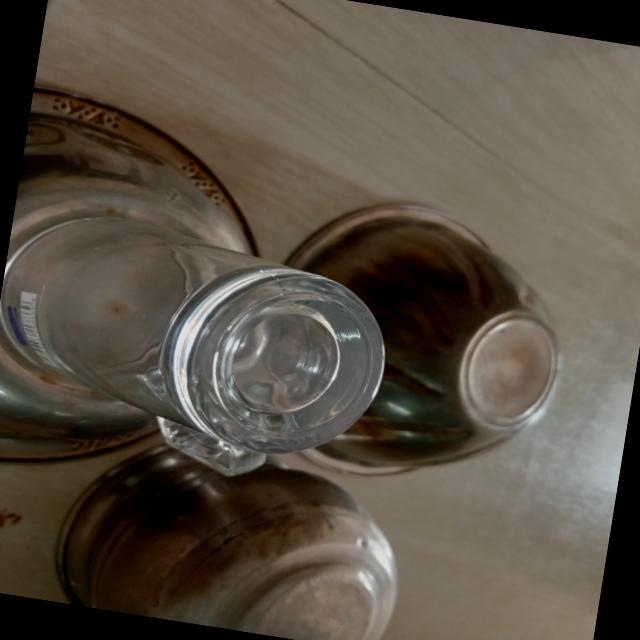glass-VX4N: (0, 199, 400, 497)
